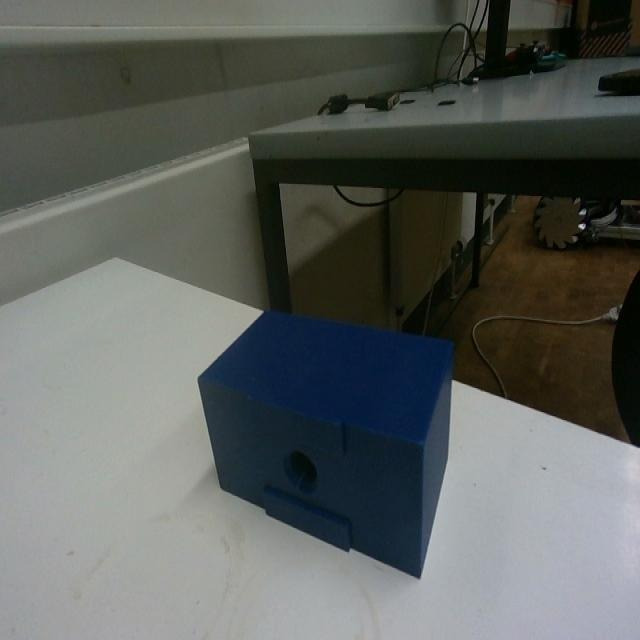Blue Cuboid: (195, 302, 457, 578)
